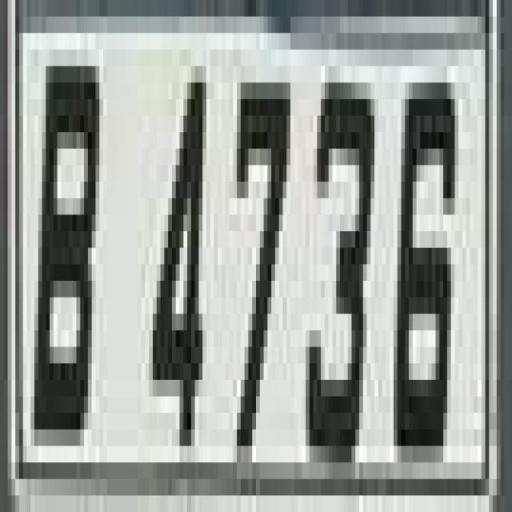number plate: (0, 0, 498, 512)
